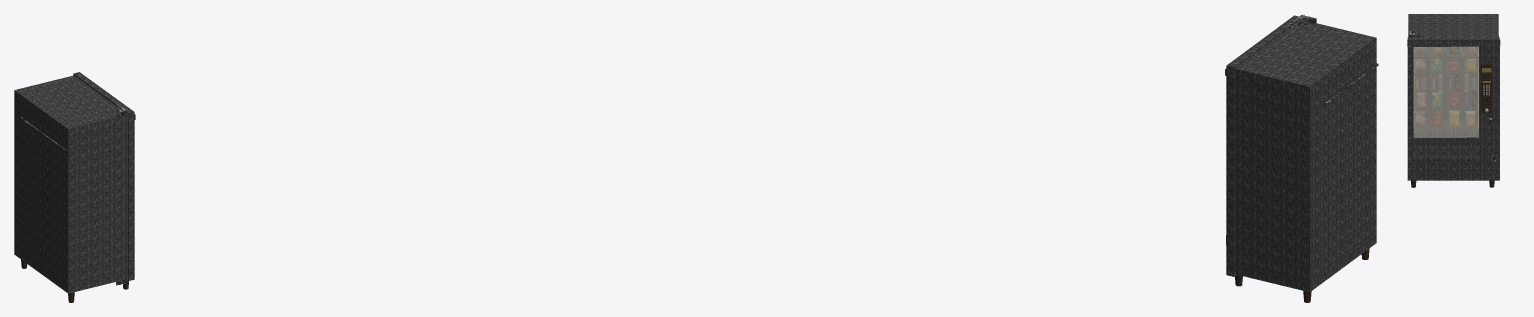
The model's file is vendingmachine.glb.
3 renders of one model, left to right at view 1: azimuth 30°, elevation 25°; view 2: azimuth 150°, elevation 25°; view 3: azimuth 270°, elevation 25°, orthographic. The views are drawn at different scales.
Visible parts, largest first — view 1: Plane.002; view 2: Plane.002; view 3: Plane.002, Plane.003, Plane.004, Plane.009, Empty, uploads_files_1930900_P_BAG+OBJ.014, uploads_files_1930900_P_BAG+OBJ.010, uploads_files_1930900_P_BAG+OBJ.008, uploads_files_1930900_P_BAG+OBJ.011, uploads_files_1930900_P_BAG+OBJ.009, uploads_files_1930900_P_BAG+OBJ.012, uploads_files_1930900_P_BAG+OBJ.013 (+5 smaller).
Boxes of the visible parts, x1=… form: Plane.002: x1=14, y1=72, x2=135, y2=293; Plane.002: x1=1225, y1=15, x2=1376, y2=292; Plane.002: x1=1407, y1=14, x2=1500, y2=180; Plane.003: x1=1413, y1=46, x2=1478, y2=137; Plane.004: x1=1481, y1=64, x2=1492, y2=113; Plane.009: x1=1414, y1=47, x2=1478, y2=58; Empty: x1=1422, y1=74, x2=1475, y2=91; uploads_files_1930900_P_BAG+OBJ.014: x1=1465, y1=111, x2=1475, y2=126; uploads_files_1930900_P_BAG+OBJ.010: x1=1416, y1=92, x2=1425, y2=107; uploads_files_1930900_P_BAG+OBJ.008: x1=1449, y1=92, x2=1458, y2=107; uploads_files_1930900_P_BAG+OBJ.011: x1=1449, y1=111, x2=1459, y2=126; uploads_files_1930900_P_BAG+OBJ.009: x1=1432, y1=92, x2=1442, y2=107; uploads_files_1930900_P_BAG+OBJ.012: x1=1432, y1=111, x2=1441, y2=125; uploads_files_1930900_P_BAG+OBJ.013: x1=1415, y1=111, x2=1425, y2=125.
Size of the model in its own units: 20.79 by 6.38 by 4.28.
26 materials, 22 textured.
